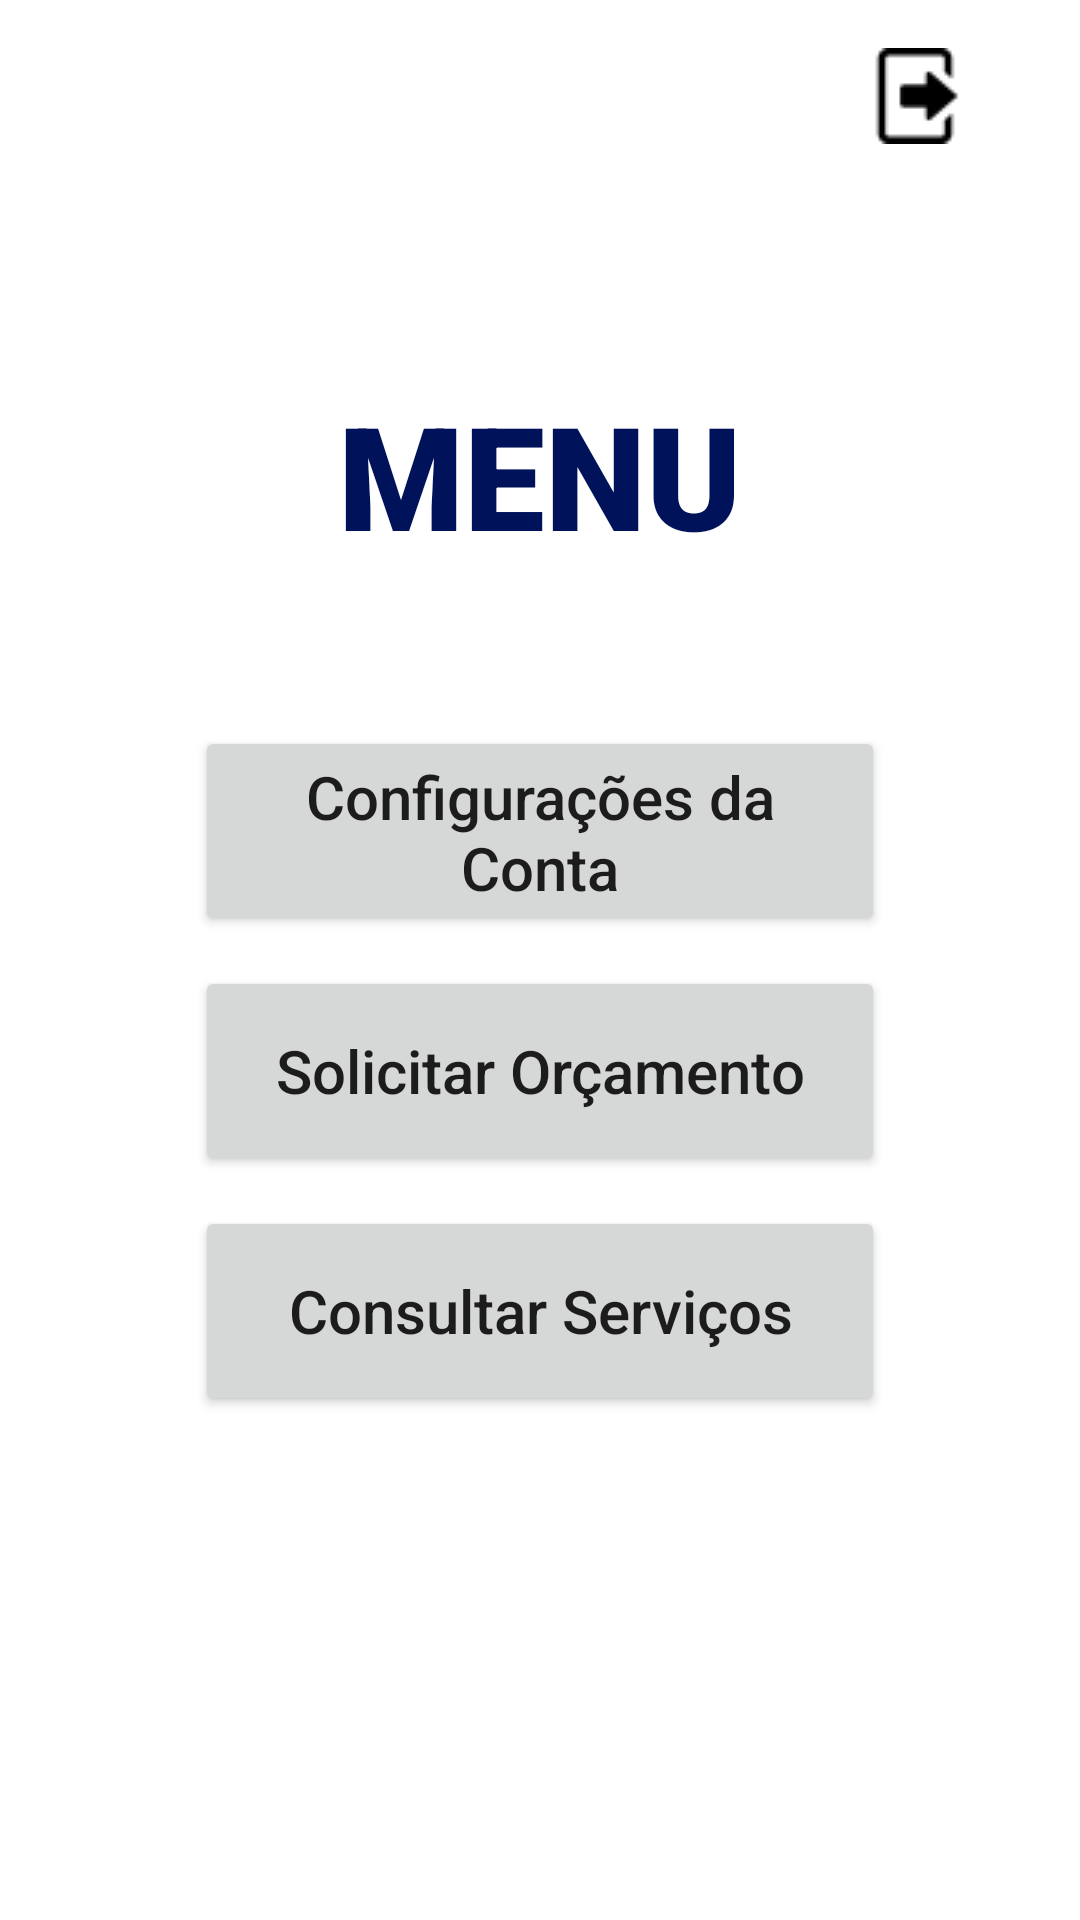

Icon click points for this 1080px x 1920px phone screenshot, format (x=x, y=y):
Deslogar: (x=916, y=96)
